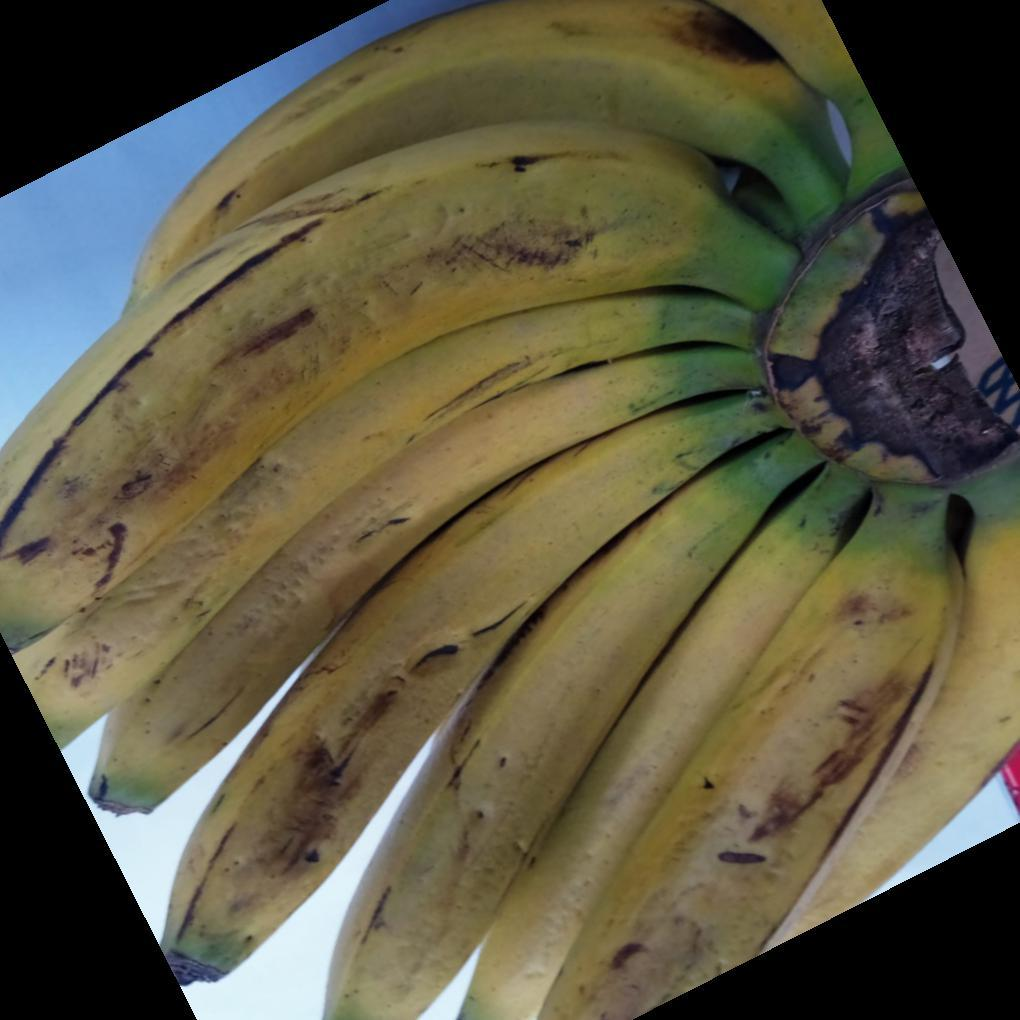Banana Ripe: (12, 3, 1020, 1020), (0, 134, 864, 1001), (143, 307, 966, 1020)
